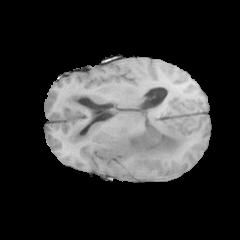glioma: (60, 90, 188, 165)
